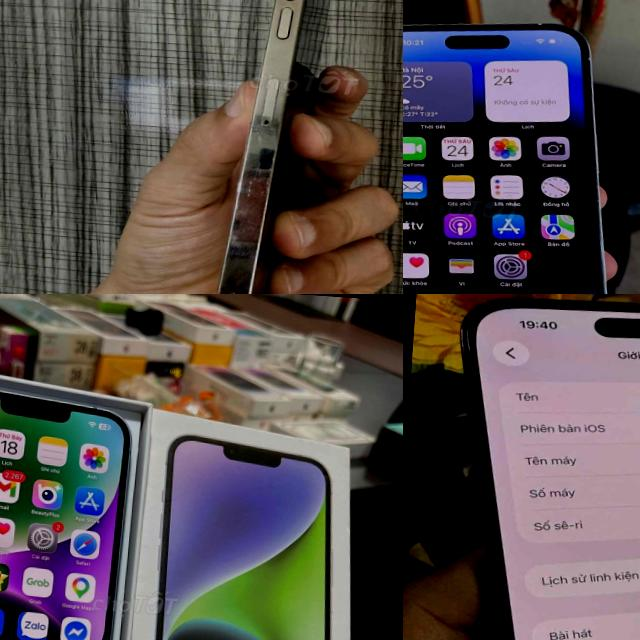scratch: (230, 115, 276, 214), (216, 219, 249, 294)
